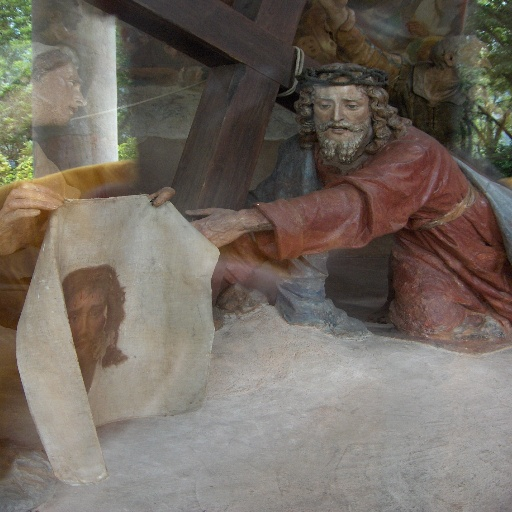hand: (248, 169, 404, 252), (0, 178, 63, 256), (145, 184, 179, 207)
